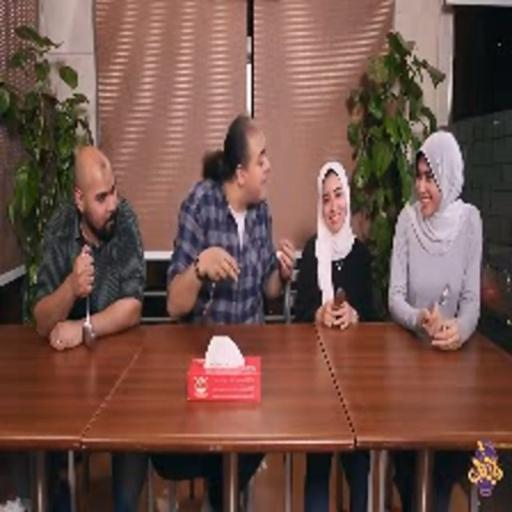nao-violencia: (131, 83, 489, 355), (155, 102, 375, 344)
